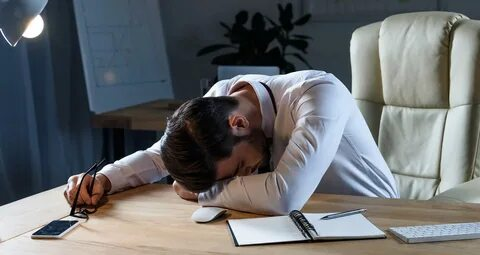sleep: (67, 68, 373, 219)
